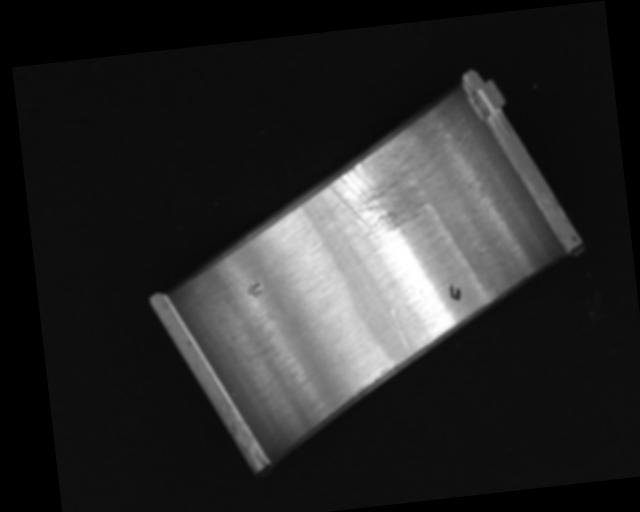blot: (448, 282, 463, 303)
bruise: (245, 276, 264, 298)
nick: (390, 306, 409, 355)
scratch: (323, 111, 446, 244)
